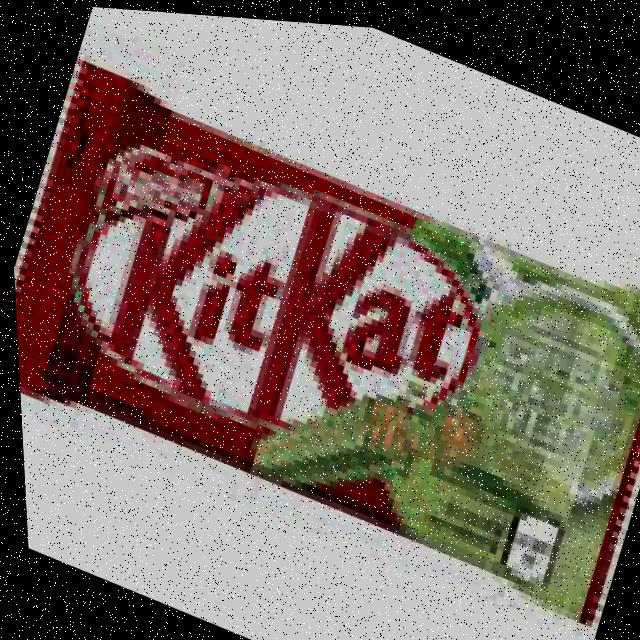kitkat: (2, 50, 640, 624)
